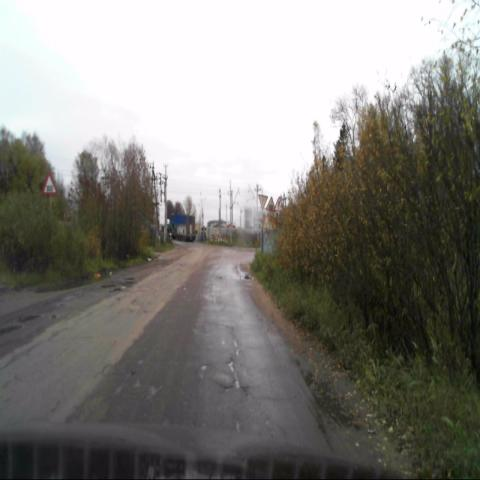1_1: (44, 175, 56, 195)
